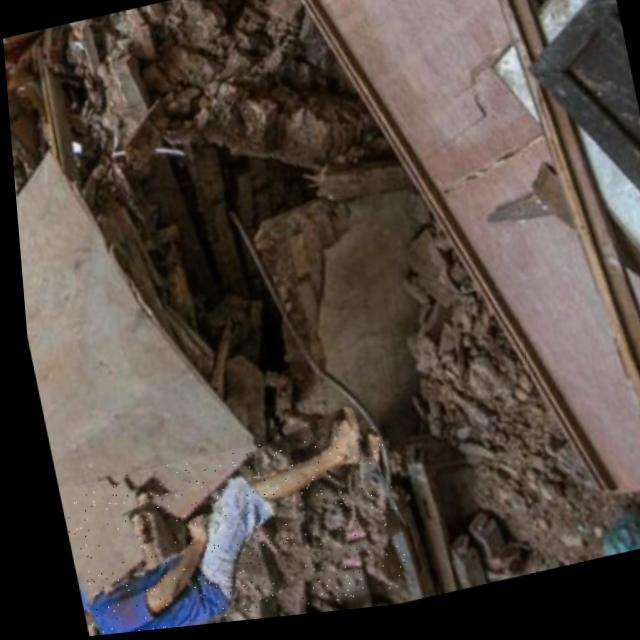Person in Rubble: (47, 421, 401, 639)
